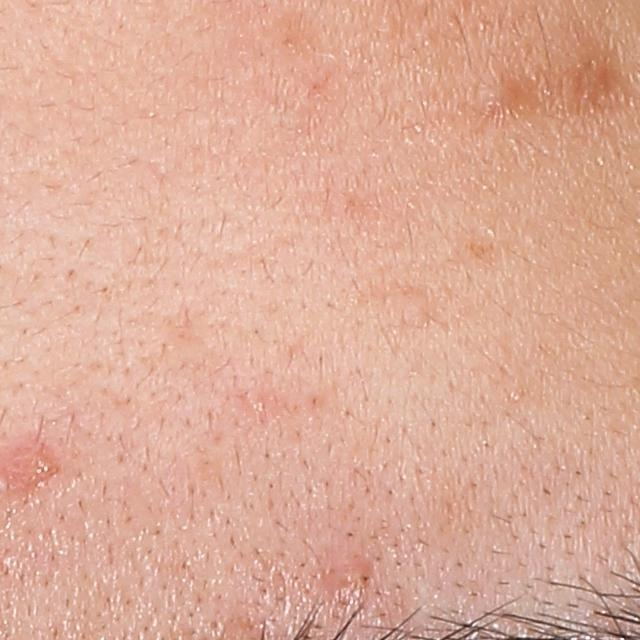comedo: (473, 80, 523, 117), (402, 289, 432, 326)
papule: (325, 551, 375, 593)
